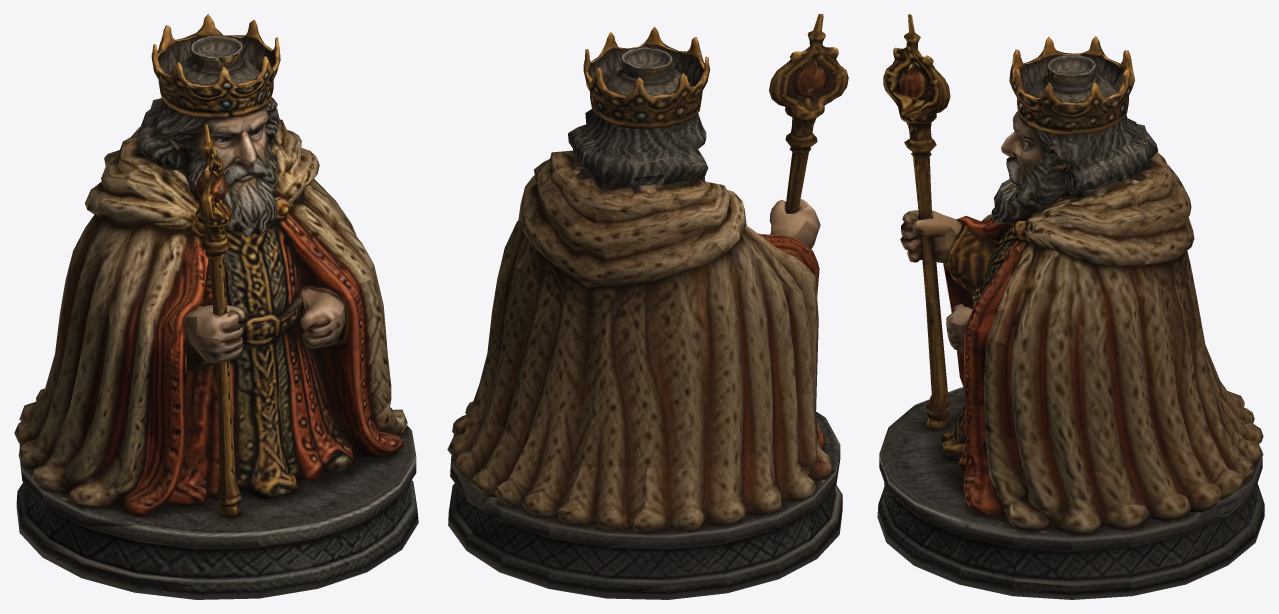
The model's file is king.glb.
3 renders of one model, left to right at view 1: azimuth 30°, elevation 25°; view 2: azimuth 150°, elevation 25°; view 3: azimuth 270°, elevation 25°, orthographic. The views are drawn at different scales.
Visible parts, largest first — view 1: mesh_node; view 2: mesh_node; view 3: mesh_node.
Part boxes in pixels (<box>): mesh_node: <box>14,14,418,599</box>; mesh_node: <box>447,14,848,599</box>; mesh_node: <box>877,14,1264,599</box>.
Bounding box in the file's own units: 0.7793 × 1 × 0.7656.
1 material, 1 textured.
